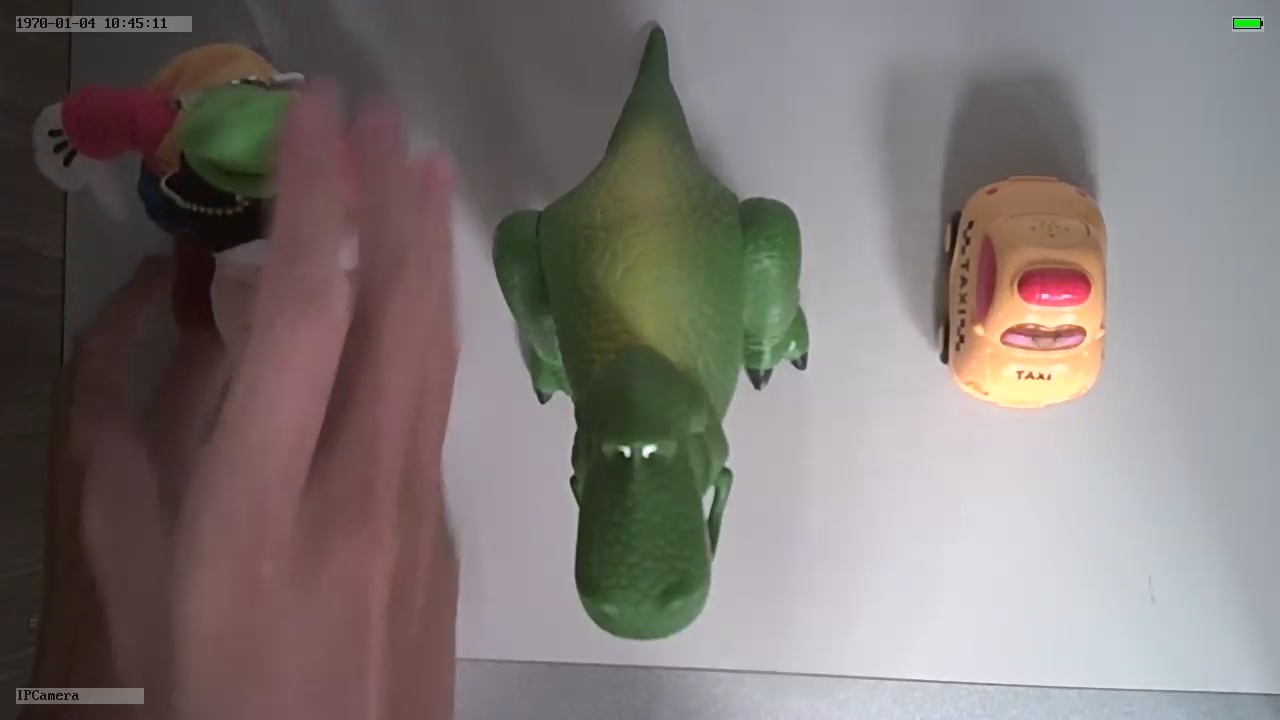car: (933, 166, 1113, 416)
rex: (491, 114, 813, 641)
